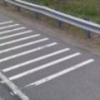crosswalks: (0, 18, 98, 98)
